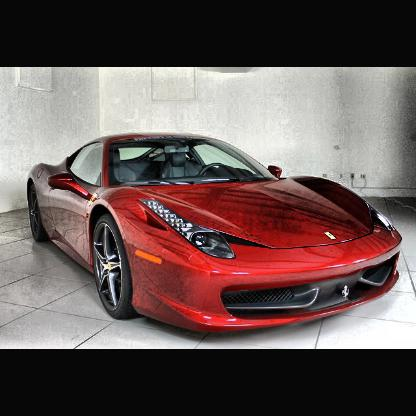Ferrari 458 Italia Coupe 2012: (28, 134, 402, 334)
